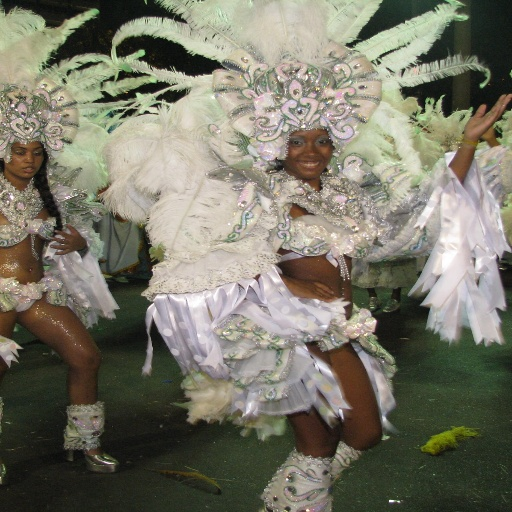hand: (450, 99, 505, 144), (279, 276, 342, 301), (47, 224, 86, 257), (479, 126, 499, 143)
